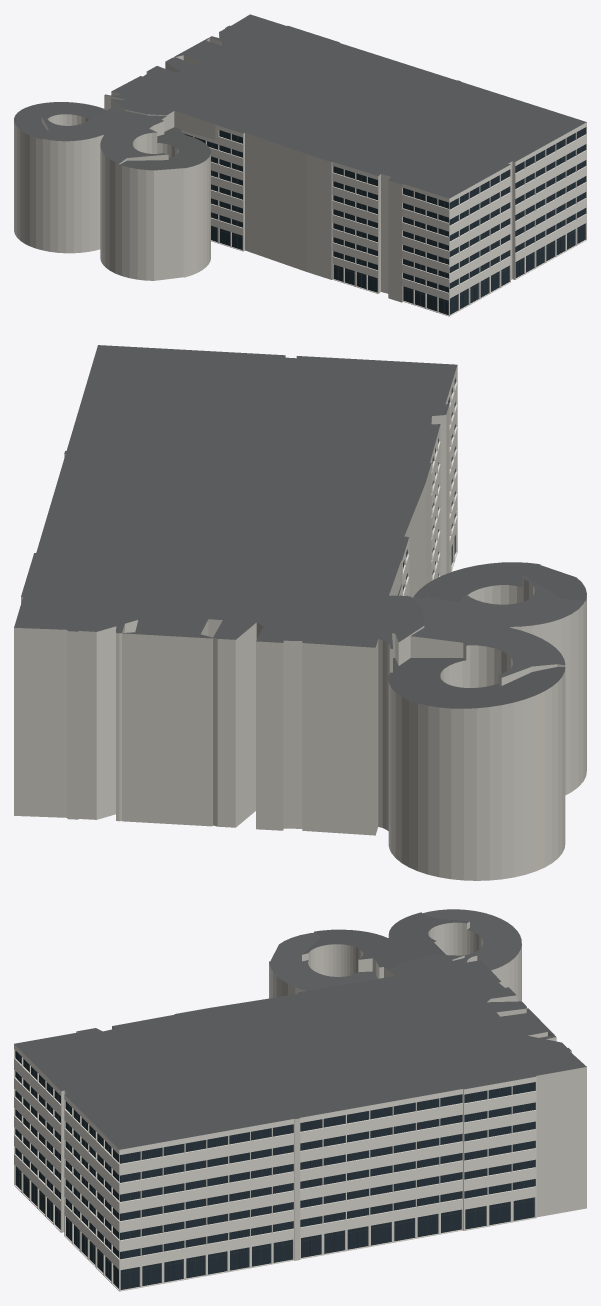
Rendered from recipe-large-marnixstraat-248-185422.glb.
The picture shows the model from 3 angles, top to bottom: view 1: azimuth 30°, elevation 25°; view 2: azimuth 150°, elevation 25°; view 3: azimuth 270°, elevation 25°; orthographic projection. The views are drawn at different scales.
Visible parts, largest first — view 1: marnixstraat-248-185422; view 2: marnixstraat-248-185422; view 3: marnixstraat-248-185422.
Part boxes in pixels (x1,y1,x2,y2): marnixstraat-248-185422: [14, 14, 586, 316]; marnixstraat-248-185422: [14, 345, 586, 880]; marnixstraat-248-185422: [14, 909, 586, 1291].
Bounding box in the file's own units: 82.44 × 21.85 × 80.07.
